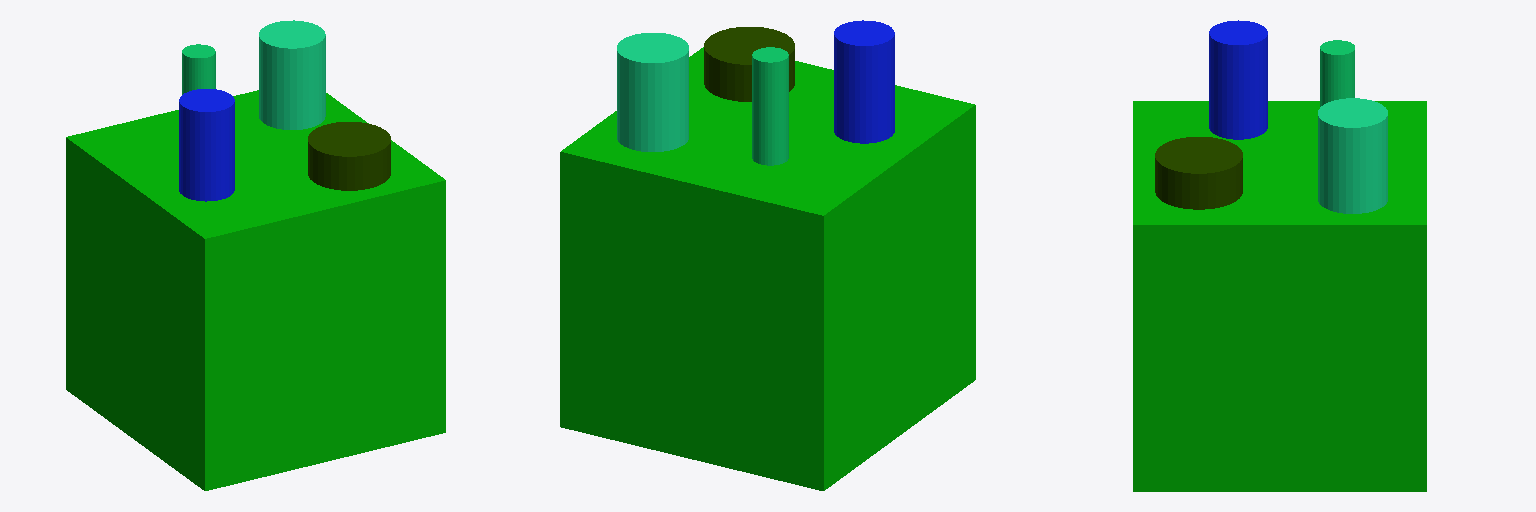
The robot description file, URDF, robot "robot":

<robot name="robot">
  <link name="base_footprint"></link>
  <joint name="base_joint" type="fixed">
    <parent link="base_footprint" />
    <child link="base_link" />
    <origin xyz="0 0 1" rpy="0 0 0" />
  </joint>
  <link name="base_link">
    <visual>
      <origin xyz="0 0 0" rpy="0 0 0" />
      <geometry>
        <box size="2 2 2" />
      </geometry>
      <material name="base_link-material">
        <color rgba="0.035601314869097636 0.7681511472425809 0.05286064701616471 1" />
      </material>
    </visual>
    <collision>
      <origin xyz="0 0 0" rpy="0 0 0" />
      <geometry>
        <box size="1 1 1" />
      </geometry>
    </collision>
    <inertial>
      <origin xyz="0 0 0" rpy="0 0 0" />
      <mass value="1" />
      <inertia ixx="0.16666666666666666" ixy="0" ixz="0" iyy="0.16666666666666666" iyz="0" izz="0.16666666666666666" />
    </inertial>
  </link>
  <joint name="base_link_to_cylinder0" type="fixed">
    <parent link="base_link" />
    <child link="cylinder0" />
    <origin xyz="0.5869685110000507 0.4958576430218047 1.1459266130954386" rpy="0 0 0" />
  </joint>
  <link name="cylinder0">
    <visual>
      <origin xyz="0 0 0" rpy="0 0 0" />
      <geometry>
        <cylinder radius="0.24" length="1" />
      </geometry>
      <material name="cylinder0-material">
        <color rgba="0.13843161502267545 0.8962693533719567 0.5906188409113381 1" />
      </material>
    </visual>
    <collision>
      <origin xyz="0 0 0" rpy="0 0 0" />
      <geometry>
        <cylinder radius="0.24" length="1" />
      </geometry>
    </collision>
    <inertial>
      <origin xyz="0 0 0" rpy="0 0 0" />
      <mass value="1" />
      <inertia ixx="0.3333333333333333" ixy="0" ixz="0" iyy="0.5" iyz="0" izz="0.3333333333333333" />
    </inertial>
  </link>
  <joint name="base_link_to_cylinder1" type="fixed">
    <parent link="base_link" />
    <child link="cylinder1" />
    <origin xyz="-0.5697324846382674 -0.2816013909261861 1.207808012393803" rpy="0 0 0" />
  </joint>
  <link name="cylinder1">
    <visual>
      <origin xyz="0 0 0" rpy="0 0 0" />
      <geometry>
        <cylinder radius="0.2" length="1" />
      </geometry>
      <material name="cylinder1-material">
        <color rgba="0.09530746662221588 0.181164244239483 0.982250550332711 1" />
      </material>
    </visual>
    <collision>
      <origin xyz="0 0 0" rpy="0 0 0" />
      <geometry>
        <cylinder radius="0.2" length="1" />
      </geometry>
    </collision>
    <inertial>
      <origin xyz="0 0 0" rpy="0 0 0" />
      <mass value="1" />
      <inertia ixx="0.3333333333333333" ixy="0" ixz="0" iyy="0.5" iyz="0" izz="0.3333333333333333" />
    </inertial>
  </link>
  <joint name="base_link_to_cylinder2" type="fixed">
    <parent link="base_link" />
    <child link="cylinder2" />
    <origin xyz="-0.24619820388772184 0.39299935943583475 1.2480007629915857" rpy="0 0 0" />
  </joint>
  <link name="cylinder2">
    <visual>
      <origin xyz="0 0 0" rpy="0 0 0" />
      <geometry>
        <cylinder radius="0.12" length="1" />
      </geometry>
      <material name="cylinder2-material">
        <color rgba="0.08437621153575764 0.8468732315065057 0.450785782828426 1" />
      </material>
    </visual>
    <collision>
      <origin xyz="0 0 0" rpy="0 0 0" />
      <geometry>
        <cylinder radius="0.12" length="1" />
      </geometry>
    </collision>
    <inertial>
      <origin xyz="0 0 0" rpy="0 0 0" />
      <mass value="1" />
      <inertia ixx="0.3333333333333333" ixy="0" ixz="0" iyy="0.5" iyz="0" izz="0.3333333333333333" />
    </inertial>
  </link>
  <joint name="base_link_to_cylinder3" type="fixed">
    <parent link="base_link" />
    <child link="cylinder3" />
    <origin xyz="0.45696963957763836 -0.5500715706981667 0.7695763481200832" rpy="0 0 0" />
  </joint>
  <link name="cylinder3">
    <visual>
      <origin xyz="0 0 0" rpy="0 0 0" />
      <geometry>
        <cylinder radius="0.3" length="1" />
      </geometry>
      <material name="cylinder3-material">
        <color rgba="0.1912016827303171 0.33245153633549385 0.0006070539670588235 1" />
      </material>
    </visual>
    <collision>
      <origin xyz="0 0 0" rpy="0 0 0" />
      <geometry>
        <cylinder radius="0.3" length="1" />
      </geometry>
    </collision>
    <inertial>
      <origin xyz="0 0 0" rpy="0 0 0" />
      <mass value="1" />
      <inertia ixx="0.3333333333333333" ixy="0" ixz="0" iyy="0.5" iyz="0" izz="0.3333333333333333" />
    </inertial>
  </link>
</robot>

--- What the picture shows (computed from the rendered views, not written in the file) ---
The picture shows the robot from 3 angles, left to right: view 1: azimuth 30°, elevation 25°; view 2: azimuth 150°, elevation 25°; view 3: azimuth 270°, elevation 25°; orthographic projection.
Model robot with 6 links and 5 joints (5 fixed), rooted at base_footprint, posed every joint at zero.
Visible links, largest first — view 1: base_link, cylinder0, cylinder1, cylinder3, cylinder2; view 2: base_link, cylinder0, cylinder1, cylinder3, cylinder2; view 3: base_link, cylinder0, cylinder1, cylinder3, cylinder2.
Boxes of the visible links, x1,y1,x2,y2 form: base_link: (66, 90, 445, 490); cylinder0: (259, 20, 325, 129); cylinder1: (179, 89, 234, 201); cylinder3: (308, 122, 390, 190); cylinder2: (182, 44, 215, 94); base_link: (560, 47, 975, 490); cylinder0: (617, 33, 688, 151); cylinder1: (834, 20, 894, 143); cylinder3: (704, 27, 794, 101); cylinder2: (752, 47, 788, 165); base_link: (1133, 101, 1426, 491); cylinder0: (1318, 98, 1387, 213); cylinder1: (1209, 20, 1267, 139); cylinder3: (1155, 137, 1242, 209); cylinder2: (1320, 40, 1354, 106).
Size in the robot's own frame: 2 by 2 by 2.75 metres.
Geometry: primitives only (box / cylinder / sphere), no mesh files.